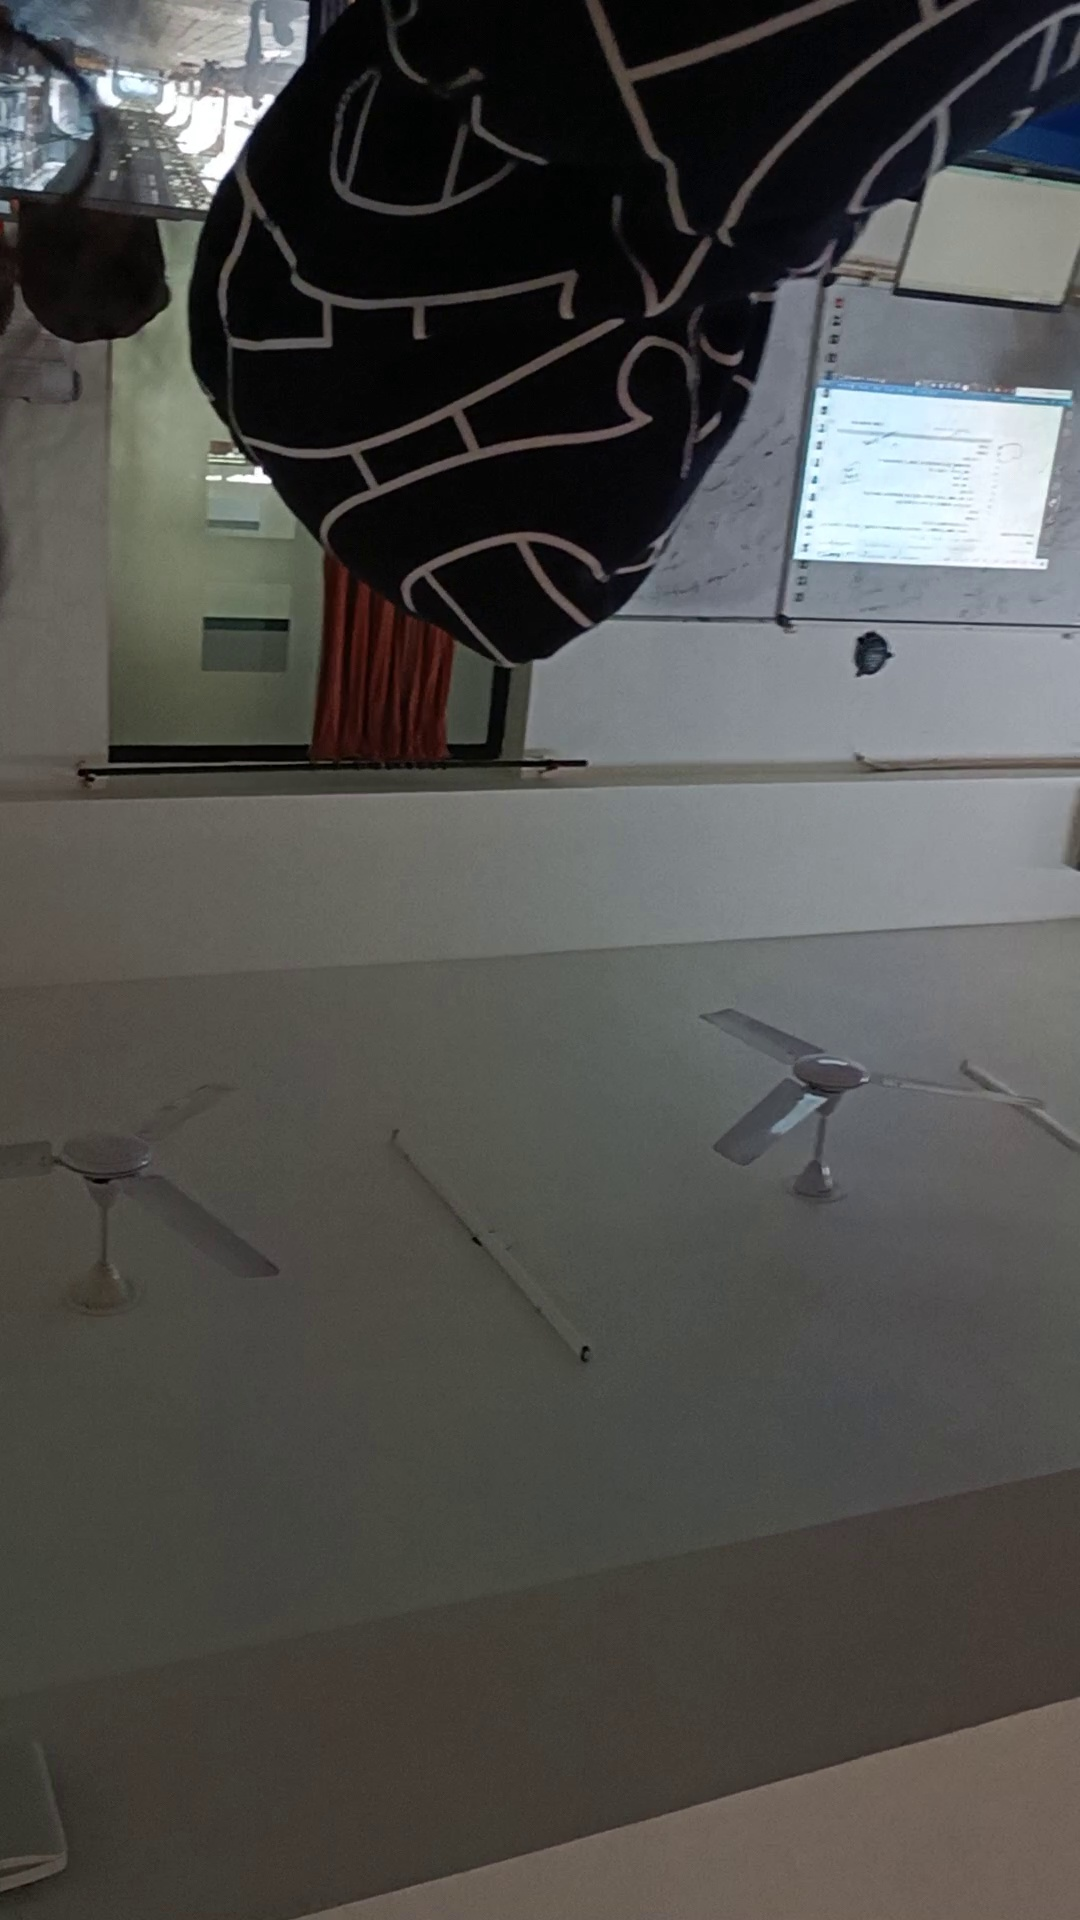fan: (634, 975, 1054, 1244), (1, 1040, 305, 1327)
tubelight: (372, 1077, 611, 1385), (953, 1030, 1080, 1168)
